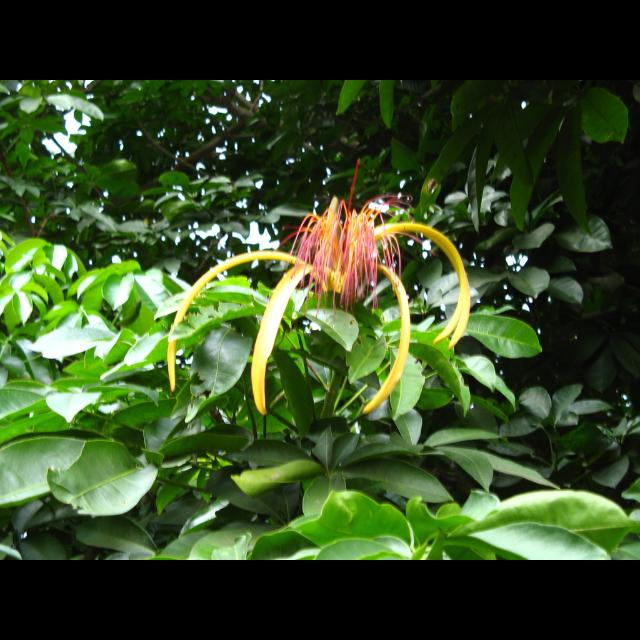Flower: (166, 157, 470, 413)
